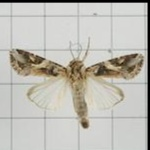Spodoptera litura: (8, 36, 143, 128)
